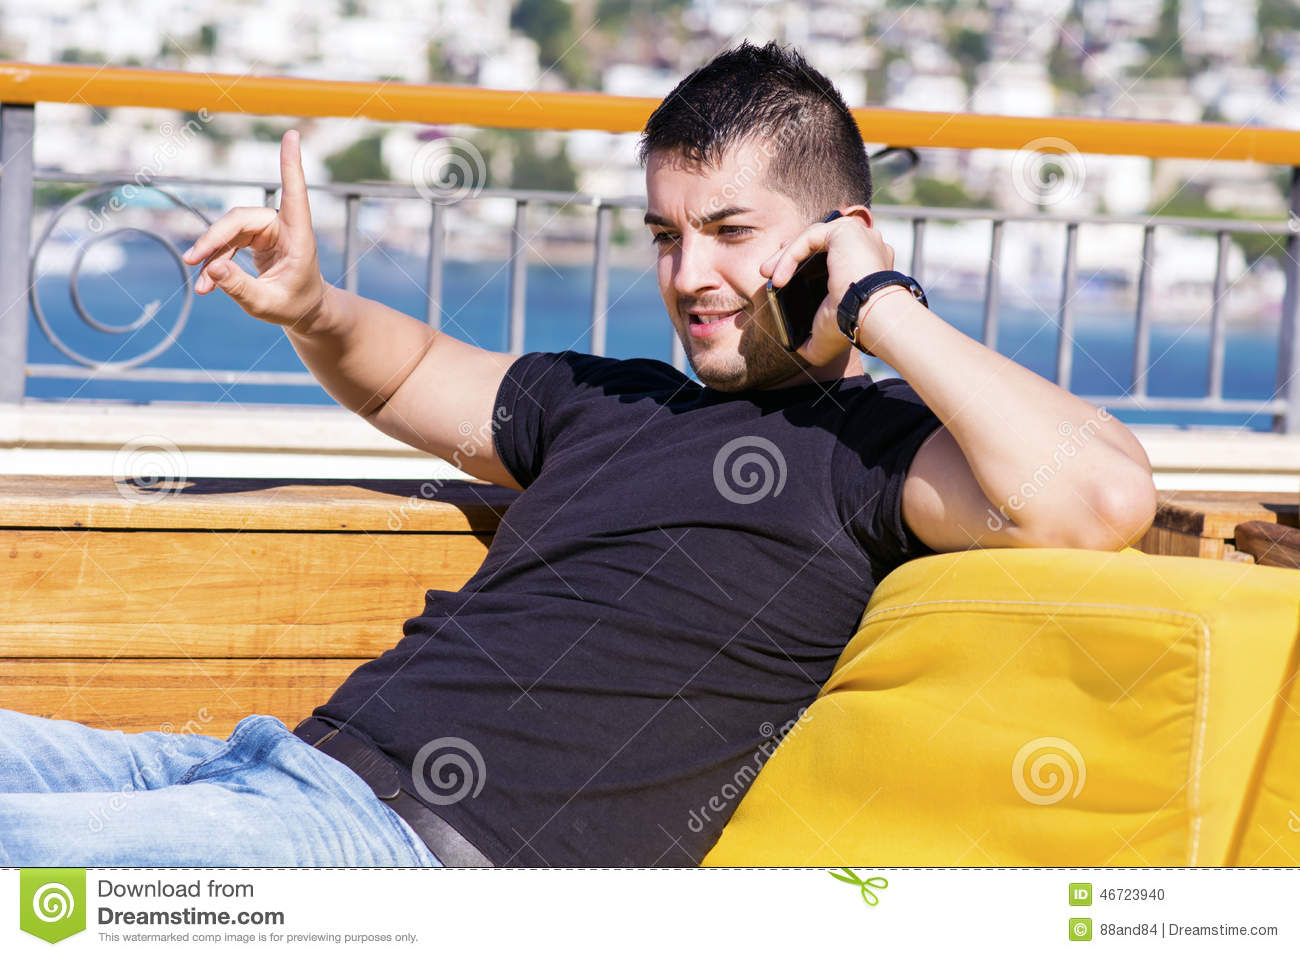phone: (766, 211, 854, 353)
talk: (643, 194, 915, 394)
